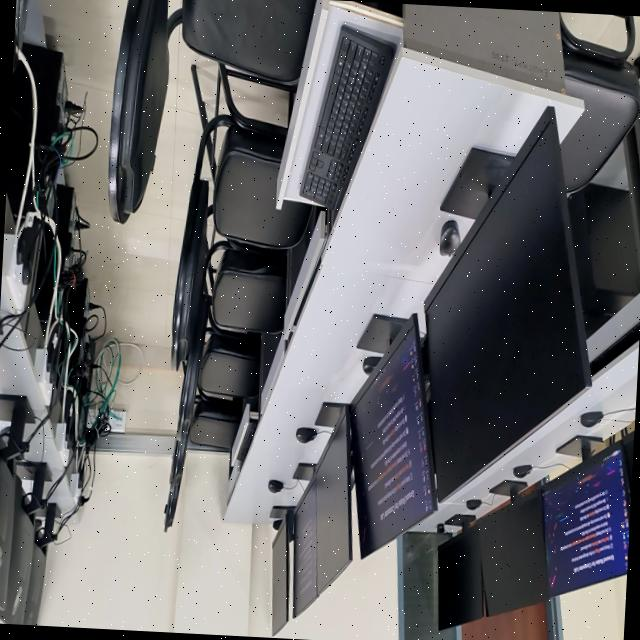Chair: (109, 0, 316, 224), (173, 64, 311, 370), (177, 241, 287, 440), (165, 399, 243, 532), (199, 329, 260, 398)
Cpu: (22, 44, 78, 216), (6, 61, 33, 221)
Keyboard: (300, 25, 396, 213)
Monitor: (425, 109, 591, 500), (350, 314, 438, 558), (541, 445, 629, 594), (474, 491, 550, 616), (313, 406, 353, 595), (438, 520, 484, 631), (0, 480, 34, 625), (293, 484, 318, 618), (0, 457, 17, 609), (272, 520, 290, 636), (24, 546, 47, 626)
Mouse: (440, 221, 461, 257), (581, 412, 604, 428), (363, 357, 382, 376), (296, 428, 317, 444), (513, 465, 532, 479), (268, 480, 284, 494), (466, 500, 481, 511), (437, 524, 445, 533)
